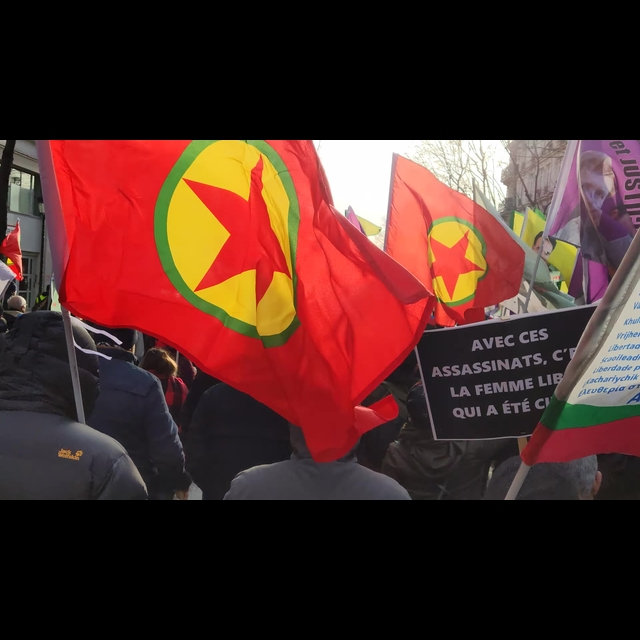PKK: (35, 140, 437, 459), (387, 144, 524, 323)
